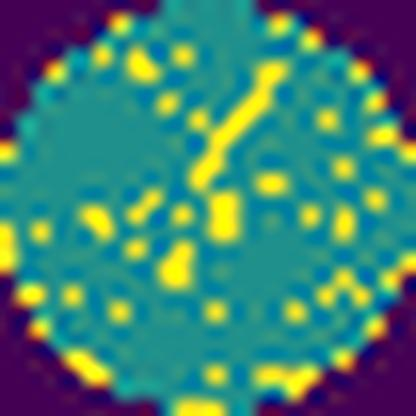Scratch: (174, 53, 295, 205)
